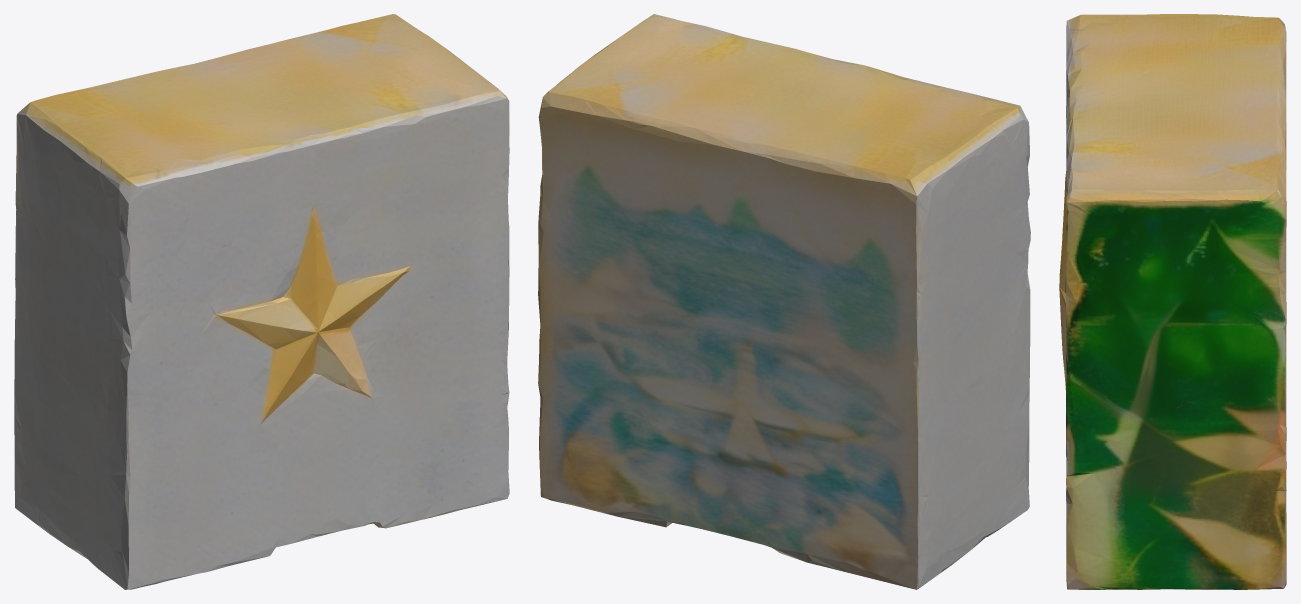
Rendered from border_marker.glb.
3 views of the same model, side by side, from view 1: azimuth 30°, elevation 25°; view 2: azimuth 150°, elevation 25°; view 3: azimuth 270°, elevation 25° (orthographic). The views are drawn at different scales.
Visible parts, largest first — view 1: border_marker_tex; view 2: border_marker_tex; view 3: border_marker_tex.
Part boxes in pixels (bbox=[...]): border_marker_tex: bbox=[14, 14, 509, 589]; border_marker_tex: bbox=[538, 14, 1030, 589]; border_marker_tex: bbox=[1059, 14, 1286, 589].
Bounding box in the file's own units: 1.44 × 1.45 × 0.7516.
Materials: 1 (1 with a texture image).
